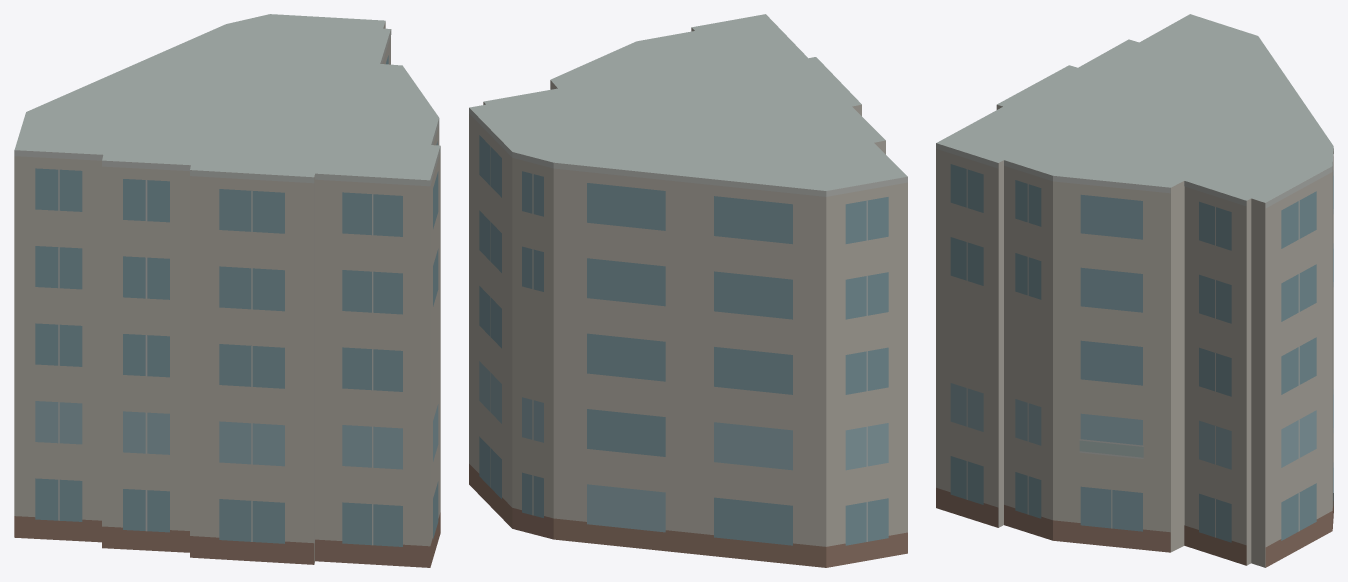
Rendered from survey-upis-32985863.glb.
3 views of the same model, side by side, from view 1: azimuth 30°, elevation 25°; view 2: azimuth 150°, elevation 25°; view 3: azimuth 270°, elevation 25° (orthographic). The views are drawn at different scales.
Parts seen in each view (by area): view 1: survey-upis-32985863.tmp; view 2: survey-upis-32985863.tmp; view 3: survey-upis-32985863.tmp.
Boxes of the visible parts, box(x1,y1,x2,y2) form: survey-upis-32985863.tmp: box(14, 14, 440, 567); survey-upis-32985863.tmp: box(469, 14, 907, 567); survey-upis-32985863.tmp: box(936, 14, 1333, 567).
Size of the model in its own units: 17.44 by 15.7 by 15.52.
